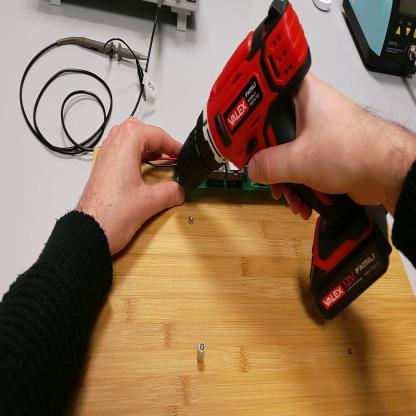electric screwdriver: (177, 2, 394, 320)
hand: (247, 68, 383, 221), (81, 116, 185, 257)
high voltage board: (142, 158, 273, 194)
oscilloscope: (47, 1, 199, 31)
oscilloscope probe tip: (74, 37, 153, 67)
welder station: (343, 2, 416, 73)
working area: (66, 148, 416, 416)
